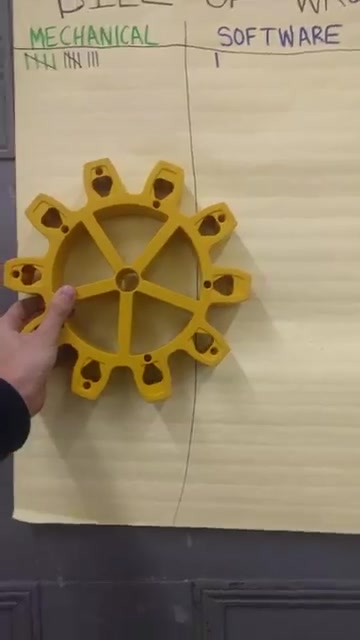gear: (1, 154, 246, 403)
